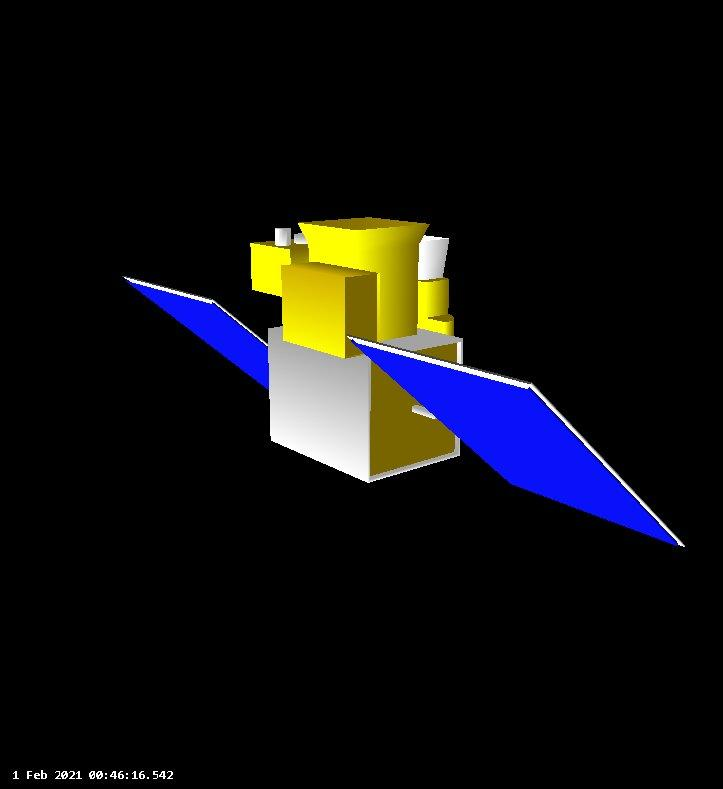body: (264, 320, 468, 488)
solar: (344, 332, 689, 552), (119, 272, 271, 393)
thruster: (298, 214, 426, 344)
